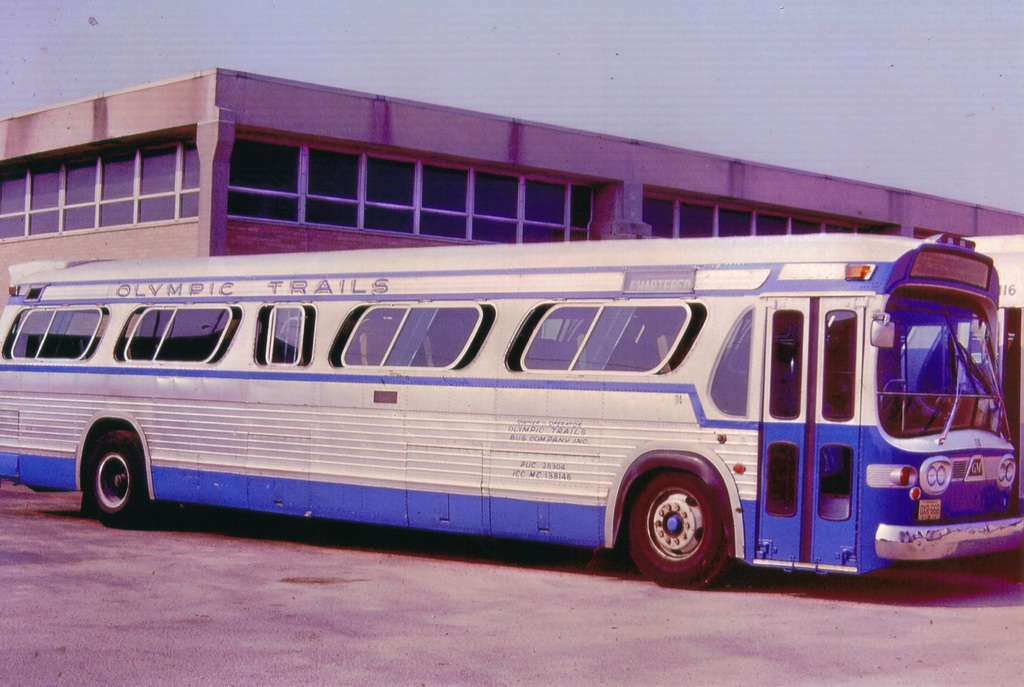Bus: (0, 232, 1023, 599), (961, 227, 1023, 463)
